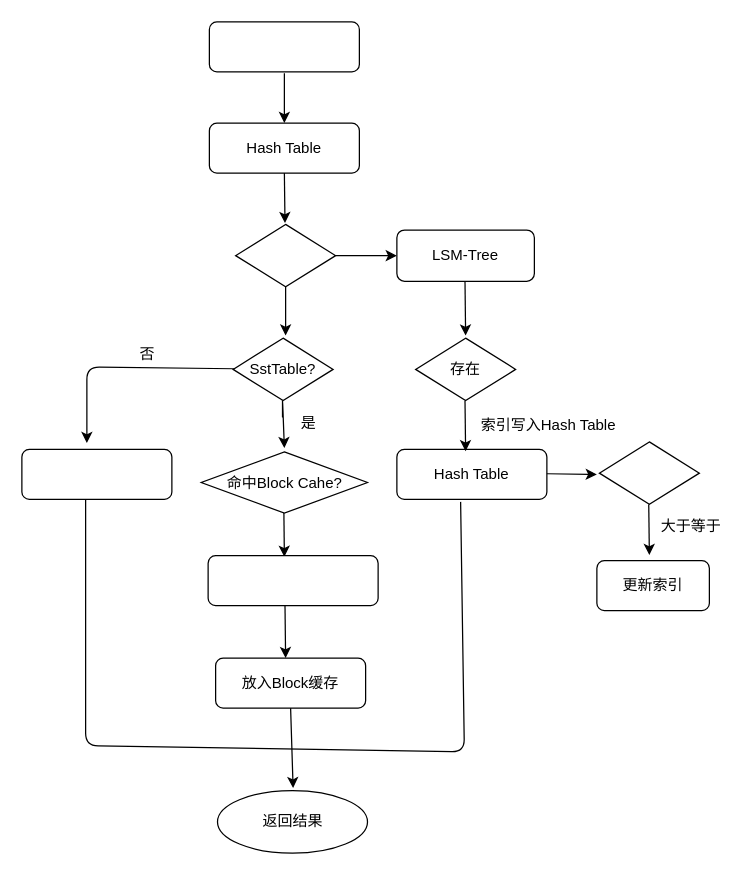
This 756x875 diagram has some shape labels left out. The shapes that lost their labels are listed below. From the top down, each one's centre as x and y in pixels, then its label:
the point at 283,46: 读请求
the point at 285,255: cache？
the point at 96,473: MemTable
the point at 648,472: Version比较
the point at 292,580: 读取SstTable中的Block
